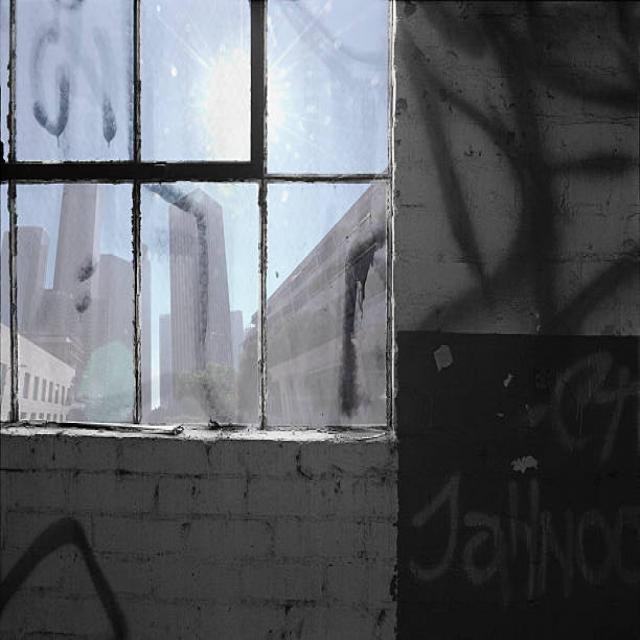Window: (0, 0, 397, 442)
